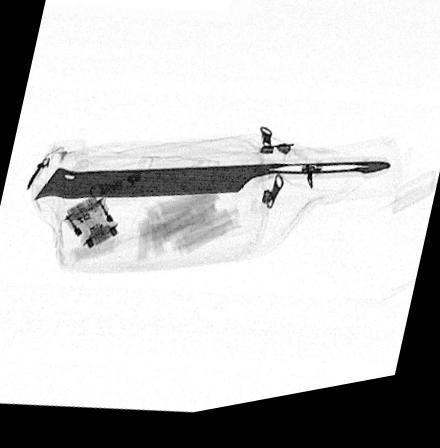Knife: (30, 167, 392, 203)
